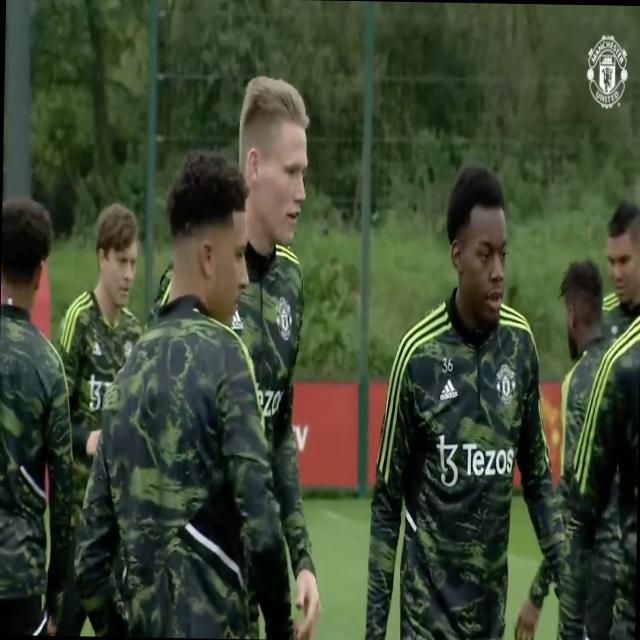Adidas: (438, 374, 458, 403), (90, 340, 103, 357)
